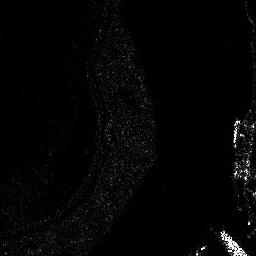ship: (220, 228, 251, 256)
